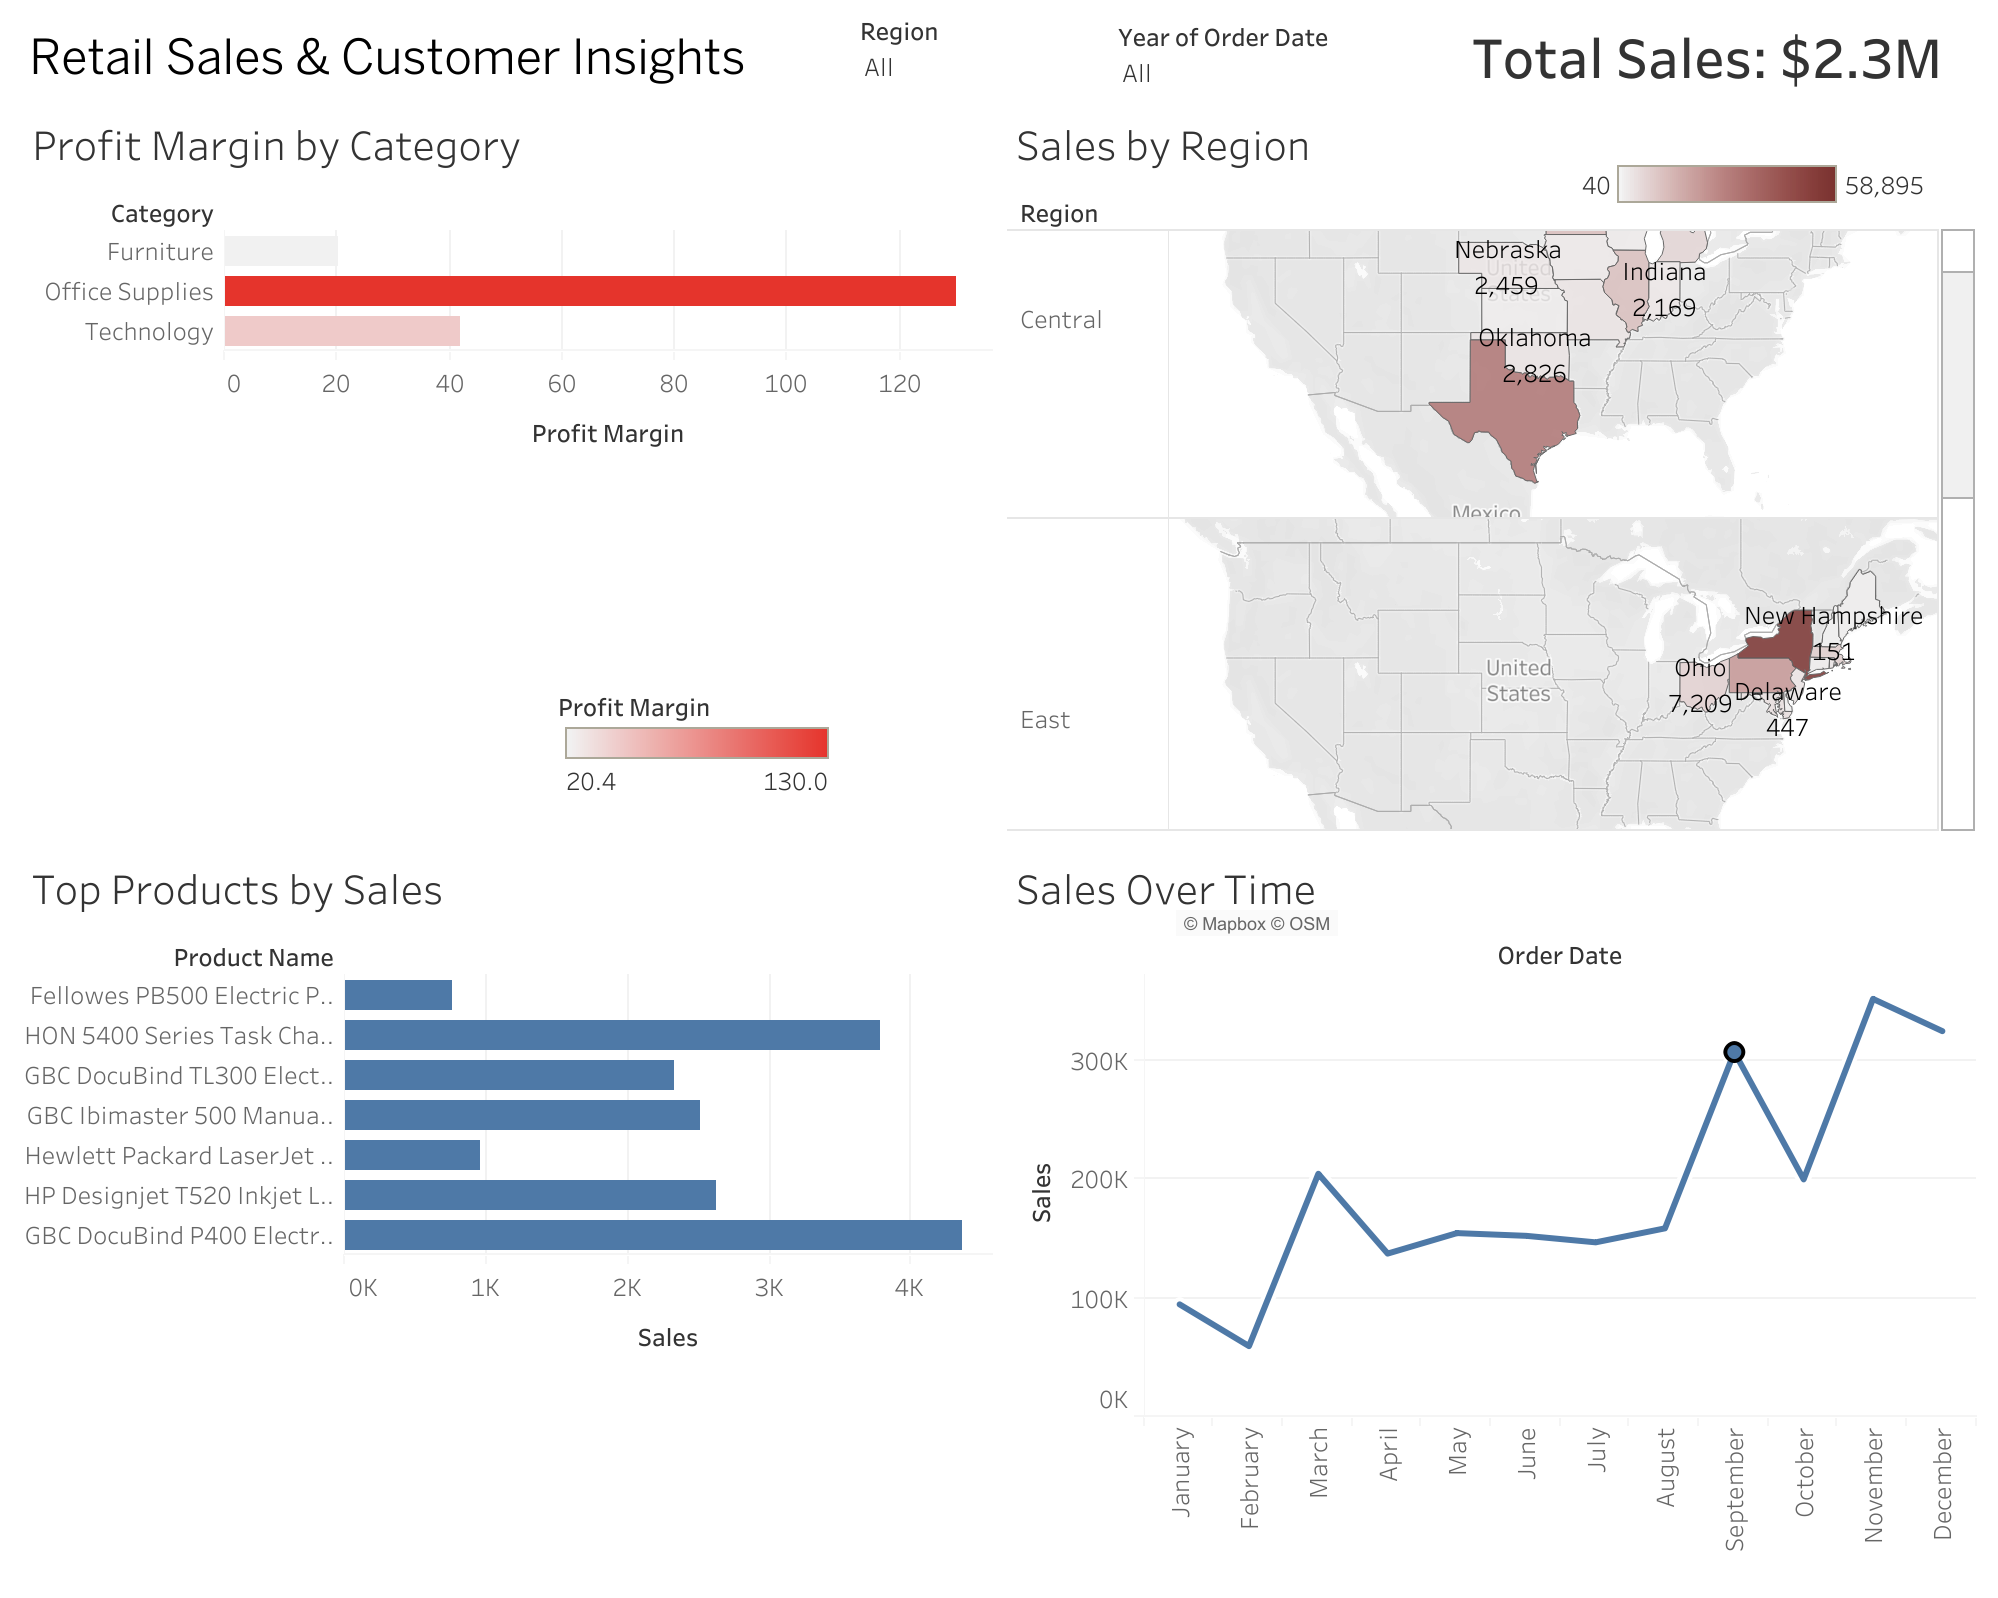

Layout of this report page (visuals, bound fields, positions):
{"tool":"tableau","page":{"name":"Retail Sales & Customer Insights","canvas":[1000,800],"ordinal":0},"visuals":[{"type":"filter","title":"Sales by Region","param":"[federated.107ua3r0jpll8k19jlgyj1mxjnqk].[none:Region:nk]","box":[430,5,123,45]},{"type":"title","box":[8,8,984,39]},{"type":"filter","title":"Sales Over Time","param":"[federated.107ua3r0jpll8k19jlgyj1mxjnqk].[yr:Order Date:ok]","box":[559,8,161,40]},{"type":"worksheet","title":"Sales KPI","mark":"Automatic","box":[724,9,267,45]},{"type":"worksheet","title":"Profit Margin by Category","mark":"Automatic","rows":["Category"],"cols":["Calculation_5102578380266704897"],"box":[8,47,492,372.5]},{"type":"worksheet","title":"Sales by Region","mark":"Automatic","rows":["Region"],"box":[500,47,492,372.5]},{"type":"legend","title":"Sales by Region","param":"[federated.107ua3r0jpll8k19jlgyj1mxjnqk].[sum:Sales:qk]","box":[787,79,180,32]},{"type":"legend","title":"Profit Margin by Category","param":"[federated.107ua3r0jpll8k19jlgyj1mxjnqk].[sum:Calculation_5102578380266704897:qk","box":[279,340,140,76]},{"type":"worksheet","title":"Top Products by Sales","mark":"Automatic","rows":["Product Name"],"cols":["Sales"],"box":[8,419.5,492,372.5]},{"type":"worksheet","title":"Sales Over Time","mark":"Automatic","rows":["Sales"],"cols":["Order Date"],"box":[500,419.5,492,372.5]}]}

Visuals, with their boxes in screenshot pixels (x1, y1, x2, y2), scaled from the page's 1000x800 canvas onto the 1998x1598 screenshot:
"Sales by Region" filter: BBox(859, 10, 1105, 100)
title: BBox(16, 16, 1982, 94)
"Sales Over Time" filter: BBox(1117, 16, 1439, 96)
"Sales KPI" worksheet: BBox(1447, 18, 1980, 108)
"Profit Margin by Category" worksheet: BBox(16, 94, 999, 838)
"Sales by Region" worksheet: BBox(999, 94, 1982, 838)
"Sales by Region" legend: BBox(1572, 158, 1932, 222)
"Profit Margin by Category" legend: BBox(557, 679, 837, 831)
"Top Products by Sales" worksheet: BBox(16, 838, 999, 1582)
"Sales Over Time" worksheet: BBox(999, 838, 1982, 1582)
